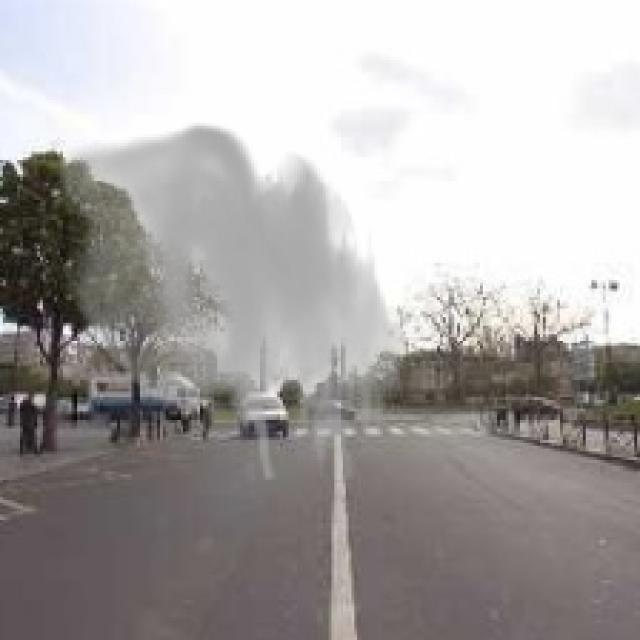smoke: (57, 123, 412, 483)
